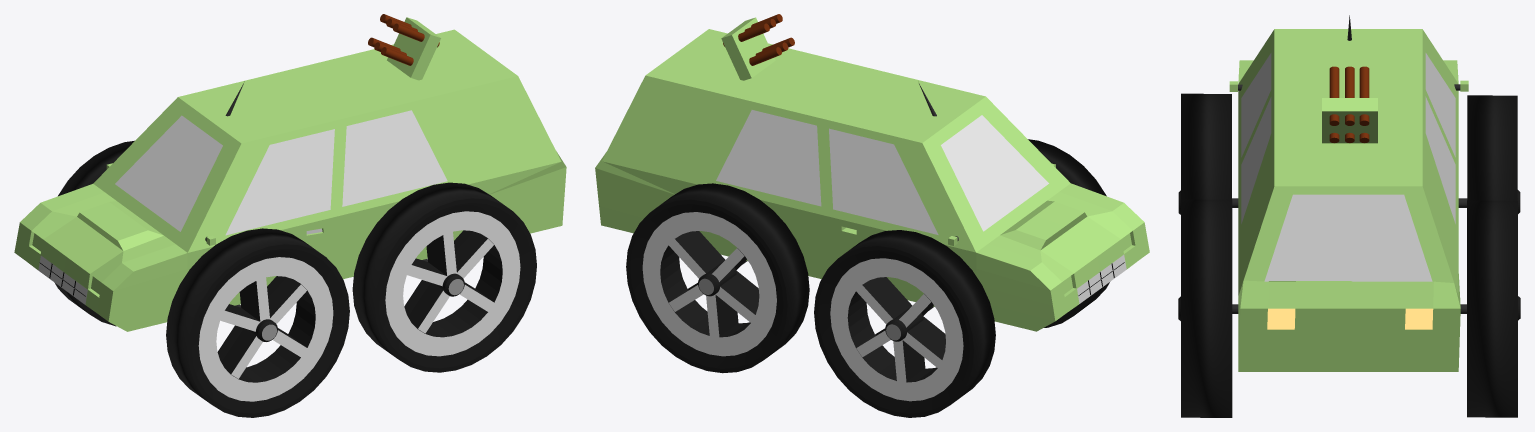
The model's file is car6.fbx.
3 renders of one model, left to right at view 1: azimuth 30°, elevation 25°; view 2: azimuth 150°, elevation 25°; view 3: azimuth 270°, elevation 25°, orthographic. The views are drawn at different scales.
Parts seen in each view (by area): view 1: Cylinder.002; view 2: Cylinder.002; view 3: Cylinder.002.
Part boxes in pixels (x1=…): Cylinder.002: x1=14, y1=14, x2=566, y2=417; Cylinder.002: x1=595, y1=14, x2=1149, y2=417; Cylinder.002: x1=1178, y1=15, x2=1520, y2=417.
Size of the model in its own units: 4.58 by 2.83 by 2.54.
